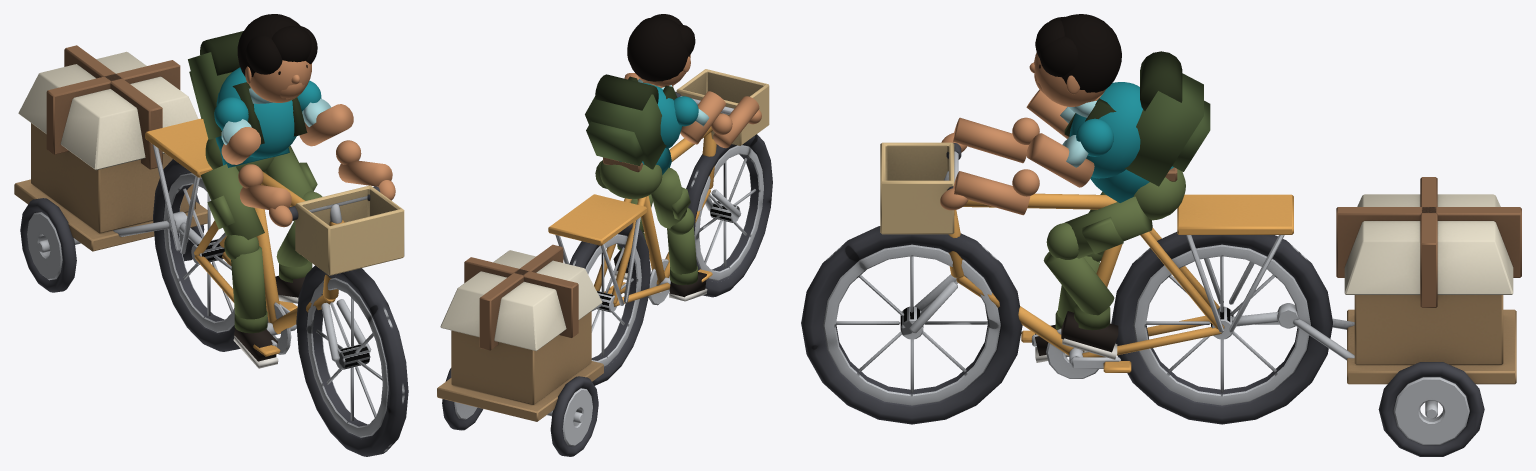
The model's file is delivery-cycle.glb.
3 renders of one model, left to right at view 1: azimuth 30°, elevation 25°; view 2: azimuth 150°, elevation 25°; view 3: azimuth 270°, elevation 25°, orthographic. The views are drawn at different scales.
Visible parts, largest first — view 1: delivery_bicycle, delivery_rider, cargo_trolley; view 2: cargo_trolley, delivery_bicycle, delivery_rider; view 3: delivery_bicycle, cargo_trolley, delivery_rider.
Part boxes in pixels (bbox=[...]): delivery_bicycle: bbox=[145, 118, 408, 456]; delivery_rider: bbox=[188, 14, 395, 368]; cargo_trolley: bbox=[14, 45, 207, 292]; cargo_trolley: bbox=[437, 244, 603, 456]; delivery_bicycle: bbox=[548, 69, 772, 385]; delivery_rider: bbox=[585, 14, 761, 301]; delivery_bicycle: bbox=[801, 142, 1332, 424]; cargo_trolley: bbox=[1293, 177, 1521, 456]; delivery_rider: bbox=[940, 14, 1210, 362].
Bounding box in the file's own units: 0.68 × 1.69 × 2.72.
Materials: 18 (7 with a texture image).
